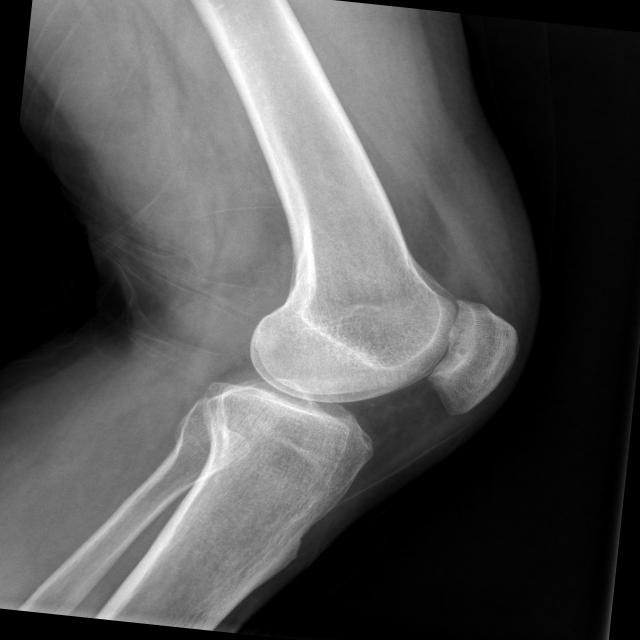Knee: (198, 271, 522, 491)
